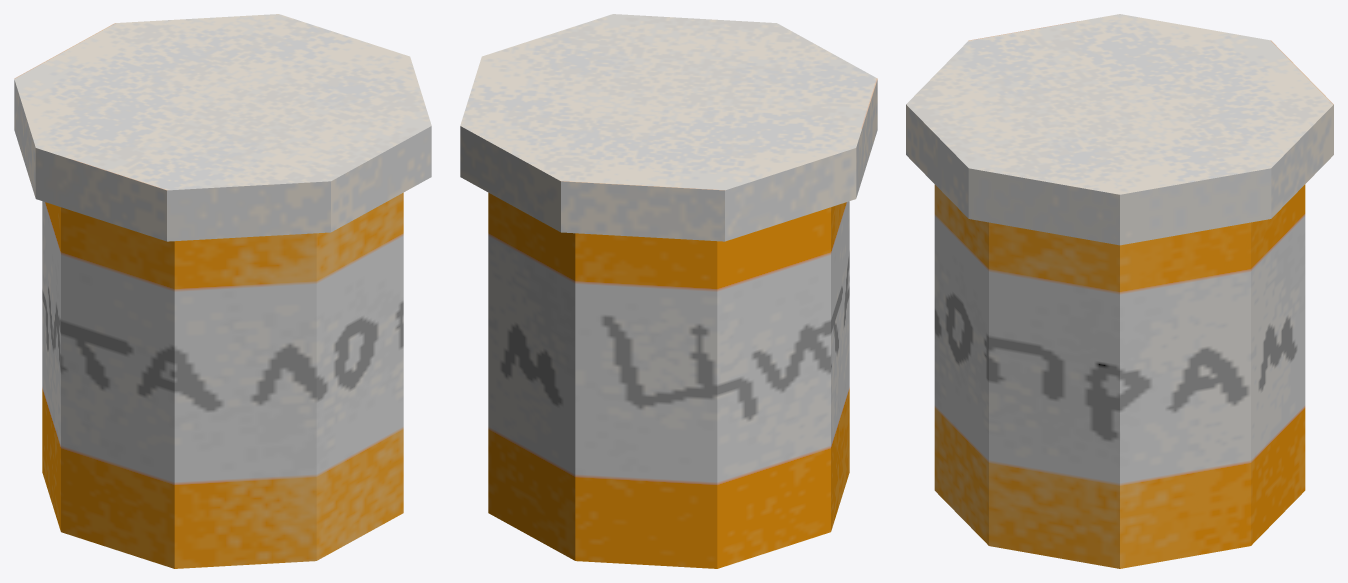
The model's file is pills.glb.
3 views of the same model, side by side, from view 1: azimuth 30°, elevation 25°; view 2: azimuth 150°, elevation 25°; view 3: azimuth 270°, elevation 25° (orthographic).
Parts seen in each view (by area): view 1: Cylinder; view 2: Cylinder; view 3: Cylinder.
Part boxes in pixels (x1,y1,x2,y2): Cylinder: (14,14,431,568); Cylinder: (460,14,877,568); Cylinder: (906,14,1333,568).
Size of the model in its own units: 1.36 by 1.35 by 1.36.
1 material, 1 textured.
